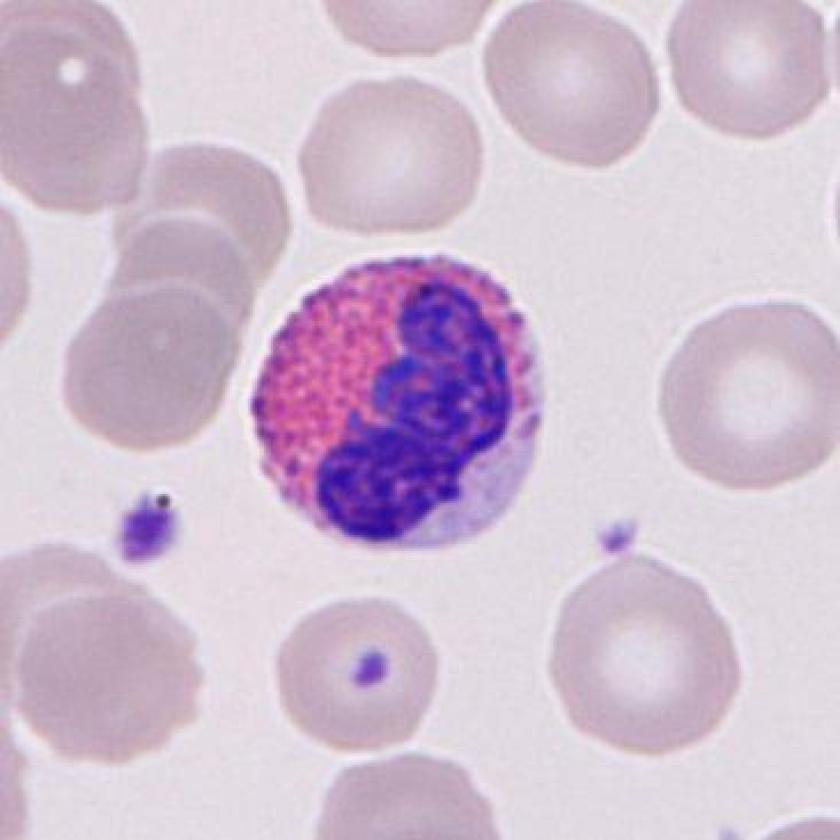eosinophil: (235, 244, 566, 568)
